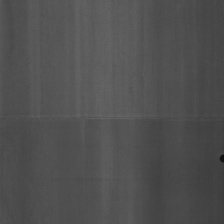punching_hole: (0, 111, 222, 125), (218, 152, 223, 165)
